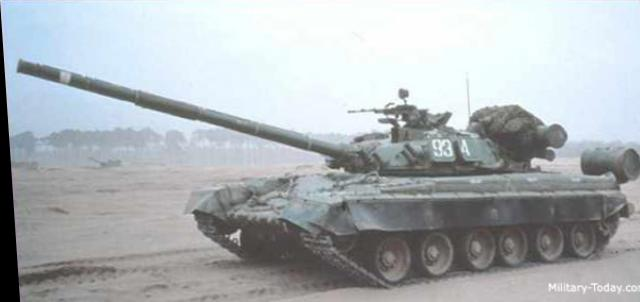tank: (183, 89, 622, 261)
